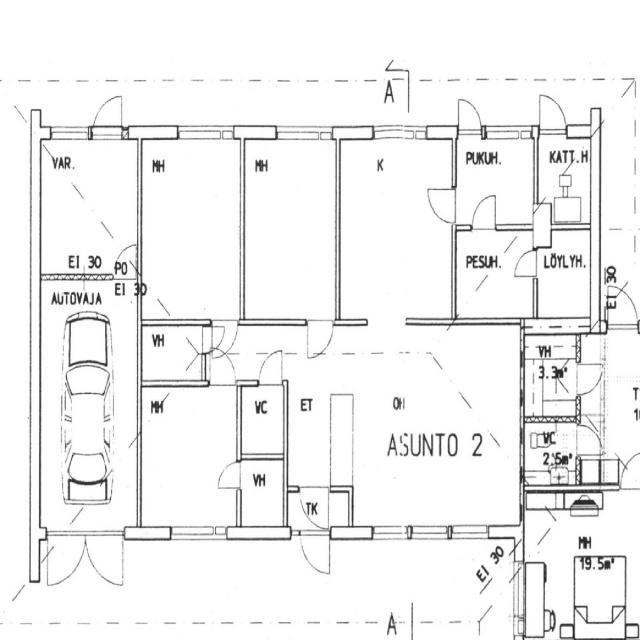door: (85, 531, 124, 587), (48, 531, 86, 587), (93, 96, 122, 140), (300, 487, 328, 529), (302, 531, 328, 571), (540, 96, 566, 135), (308, 319, 333, 357), (213, 319, 238, 356), (428, 190, 456, 223), (210, 348, 234, 386), (259, 350, 282, 386), (472, 195, 495, 230), (458, 100, 480, 135), (217, 463, 241, 489), (202, 328, 225, 353), (515, 251, 537, 276)
